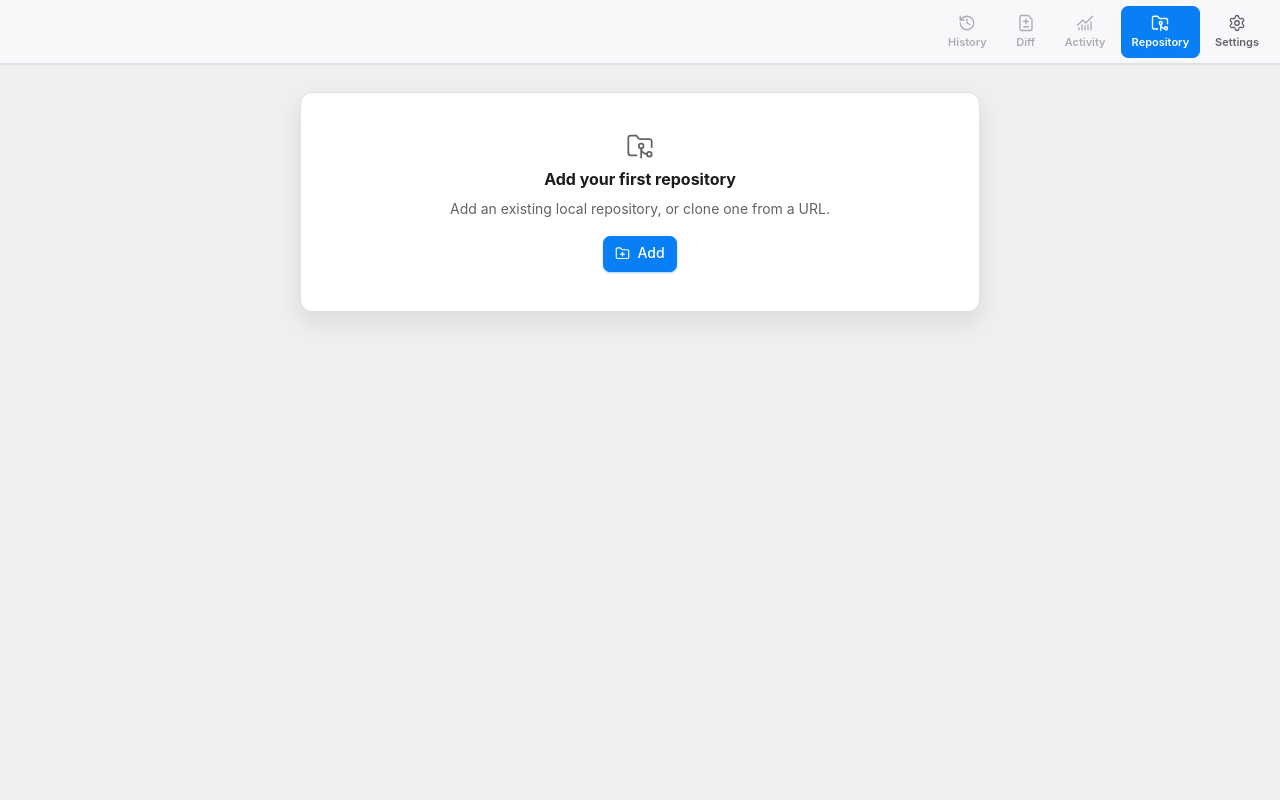
App repository attach › requires an absolute destination path without opening Finder
Click the button with aria-label "Add Repository" at (640, 254), box [603, 236, 676, 272]
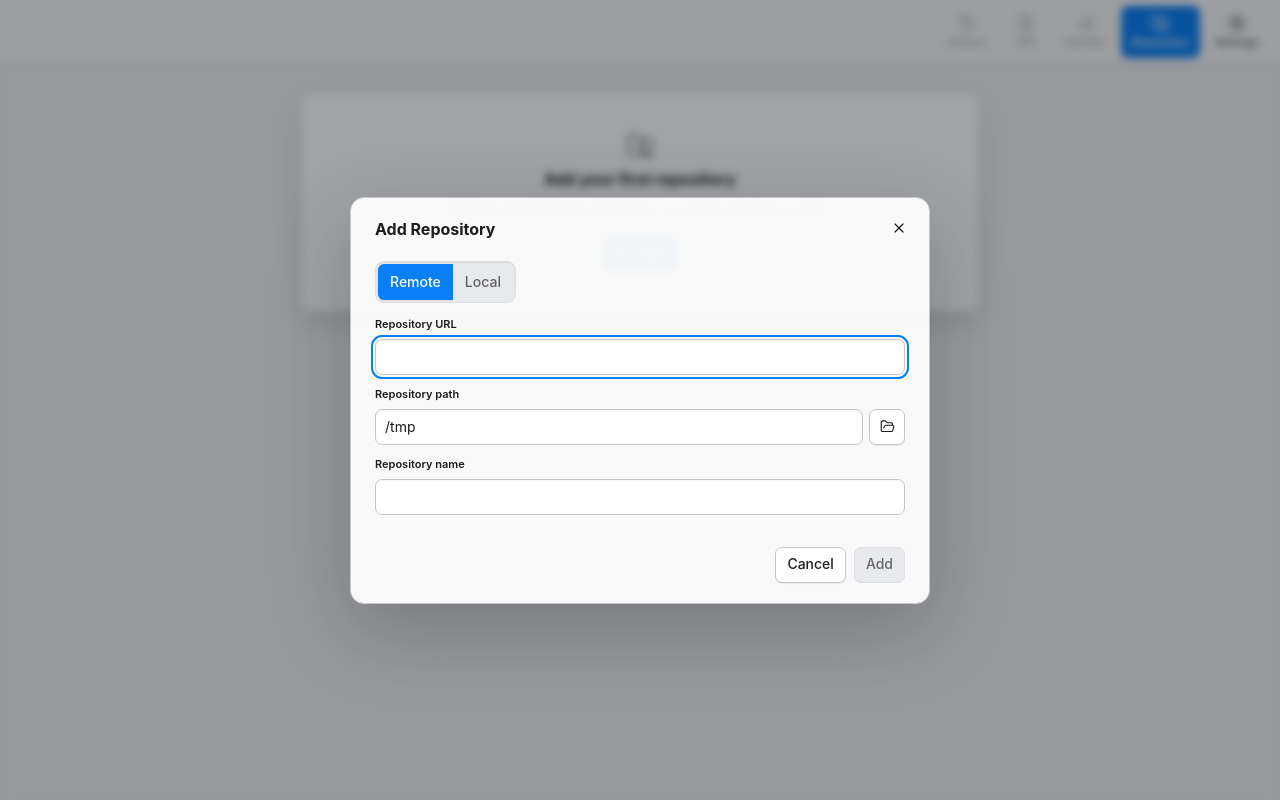
Type "git@example.com:owner/repository.git" into the field labelled "Repository URL" at (640, 357), box [375, 339, 905, 375]
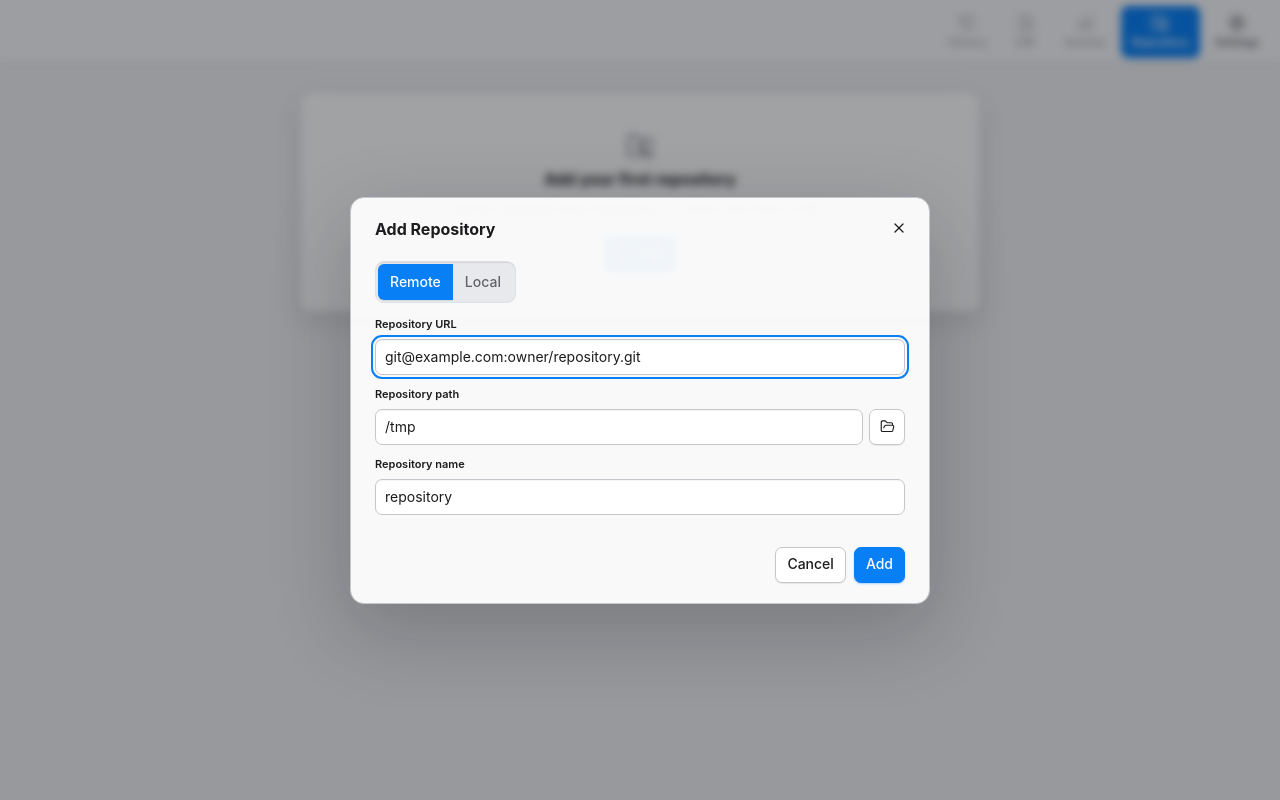
Replace the text in the field labelled "Repository path" with "relative/path" at (619, 427), box [375, 409, 863, 445]
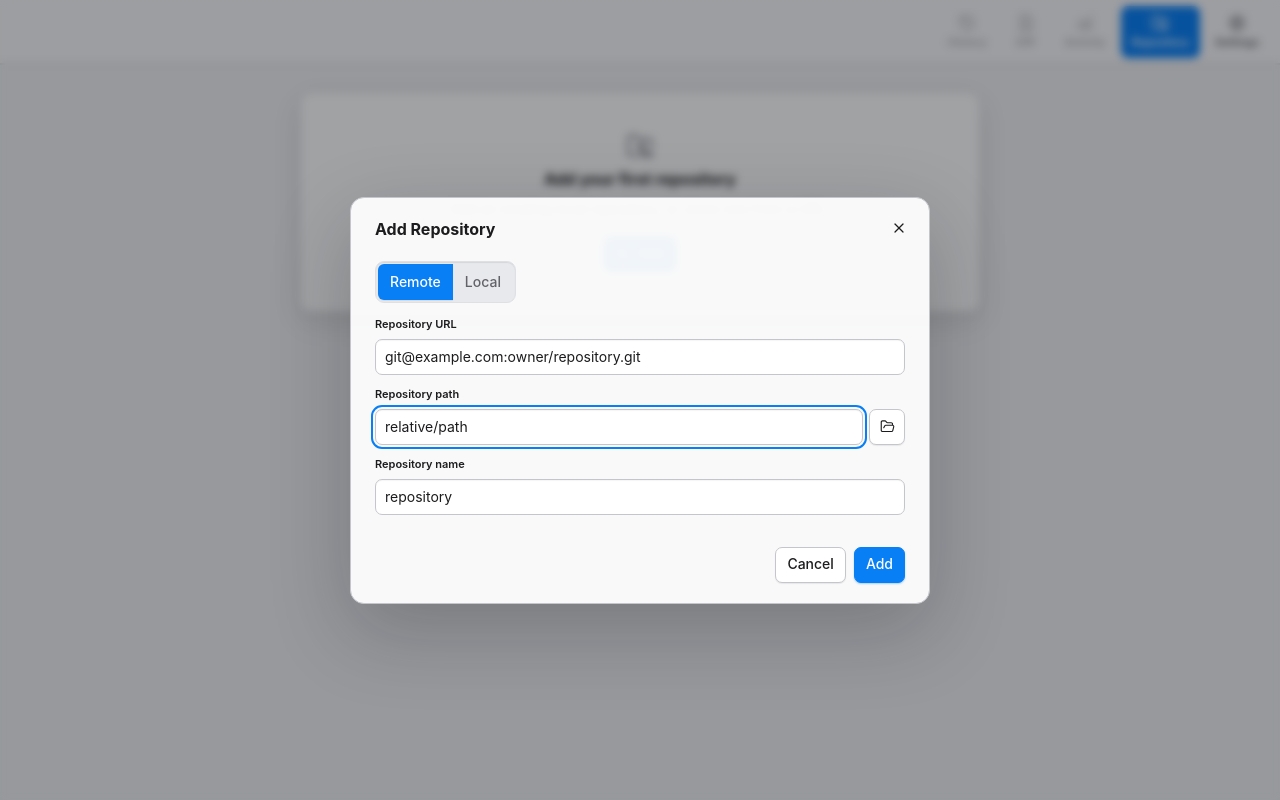
Click the button with aria-label "Add Repository" at (879, 564), box [854, 546, 905, 582]
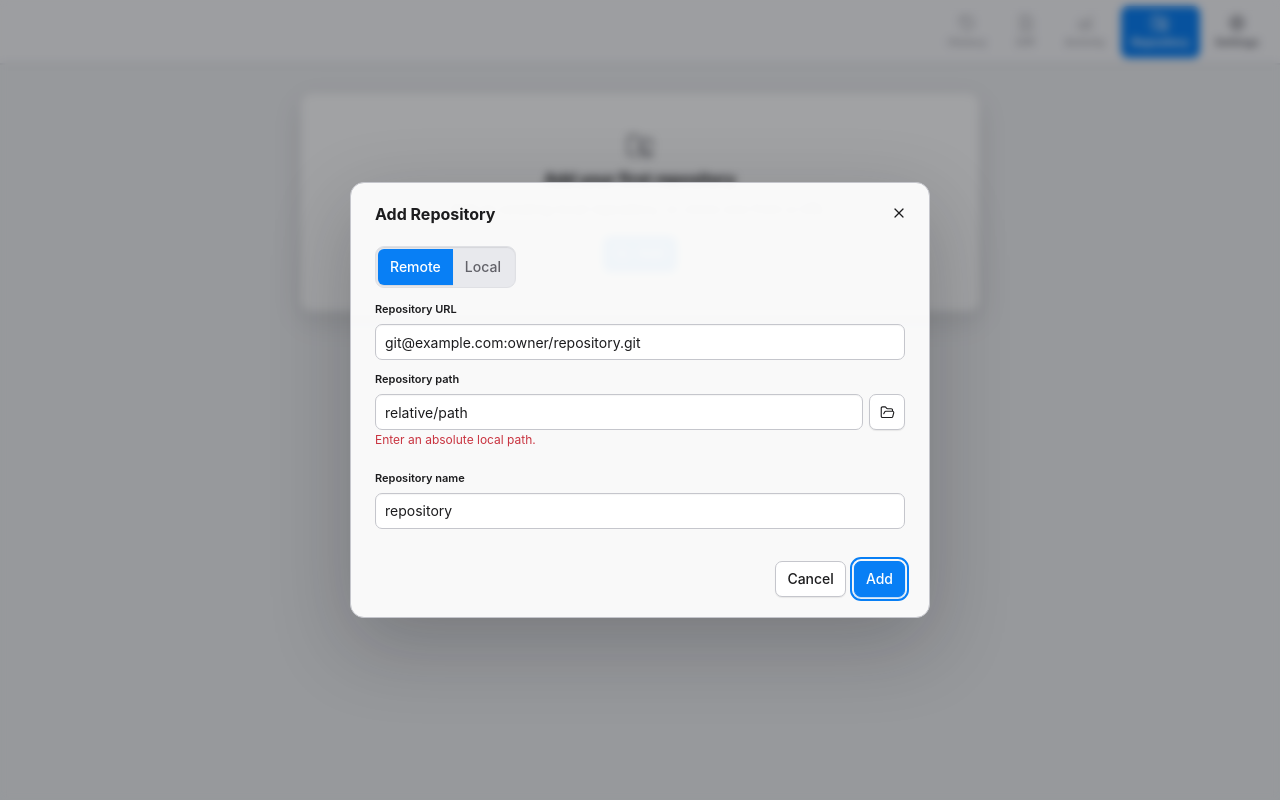
Expected: the dialog "Add Repository" is shown, [350, 182, 930, 618]
Expected: the message reads "Enter an absolute local path.", [375, 432, 536, 447]
